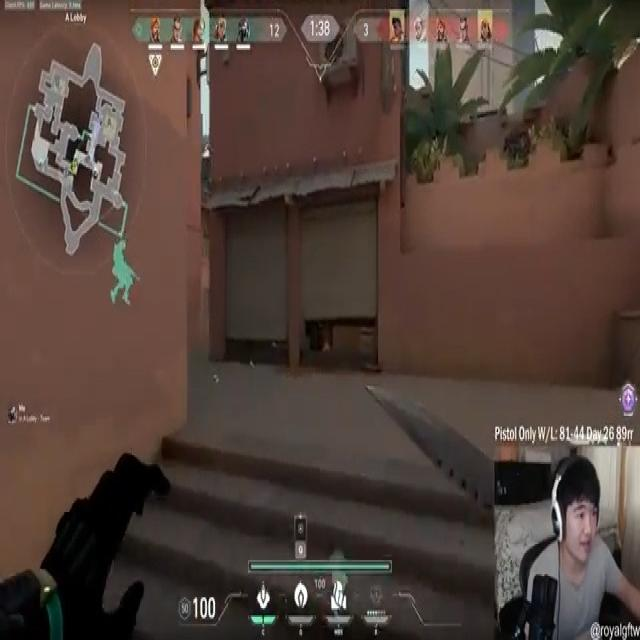ally behind wall: (110, 238, 140, 308)
